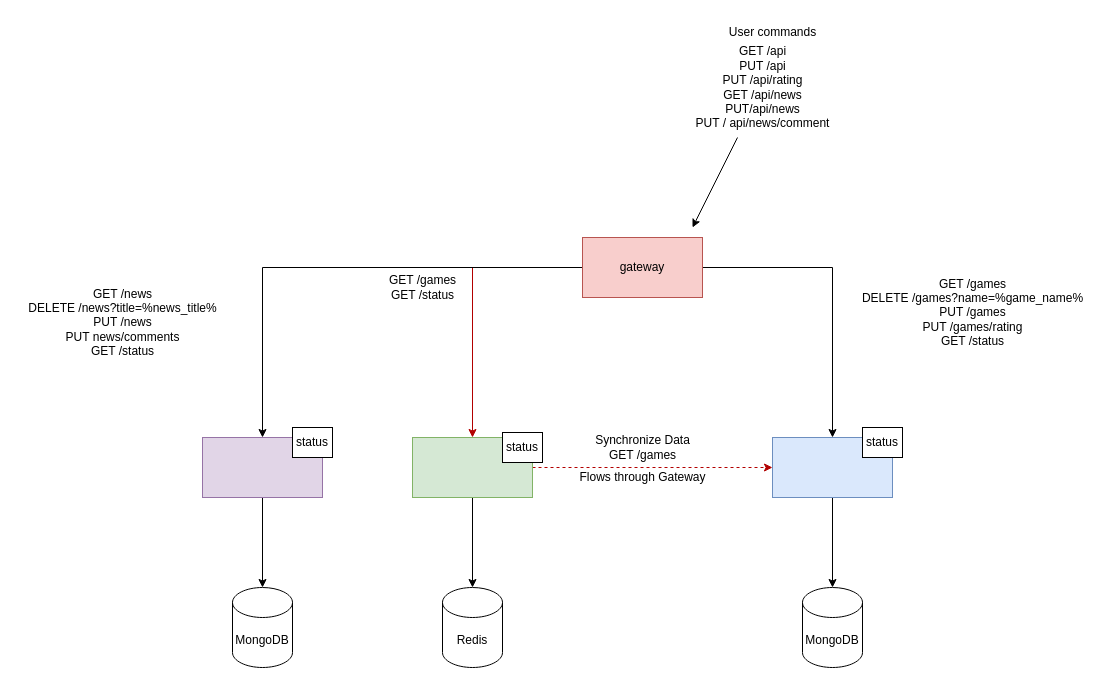
This 1109x685 diagram has some shape labels left out. Here are the shapes that lost their labels. From the top down, the box of each, then its label:
(202, 436, 322, 498): News
(412, 436, 532, 498): Cache server
(772, 436, 892, 498): Games Server
